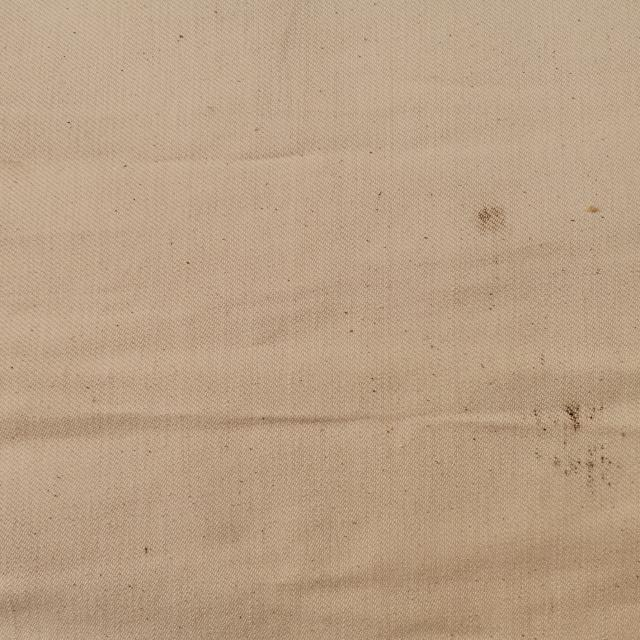taaaches: (524, 401, 634, 495), (460, 200, 520, 235), (582, 201, 610, 219)
